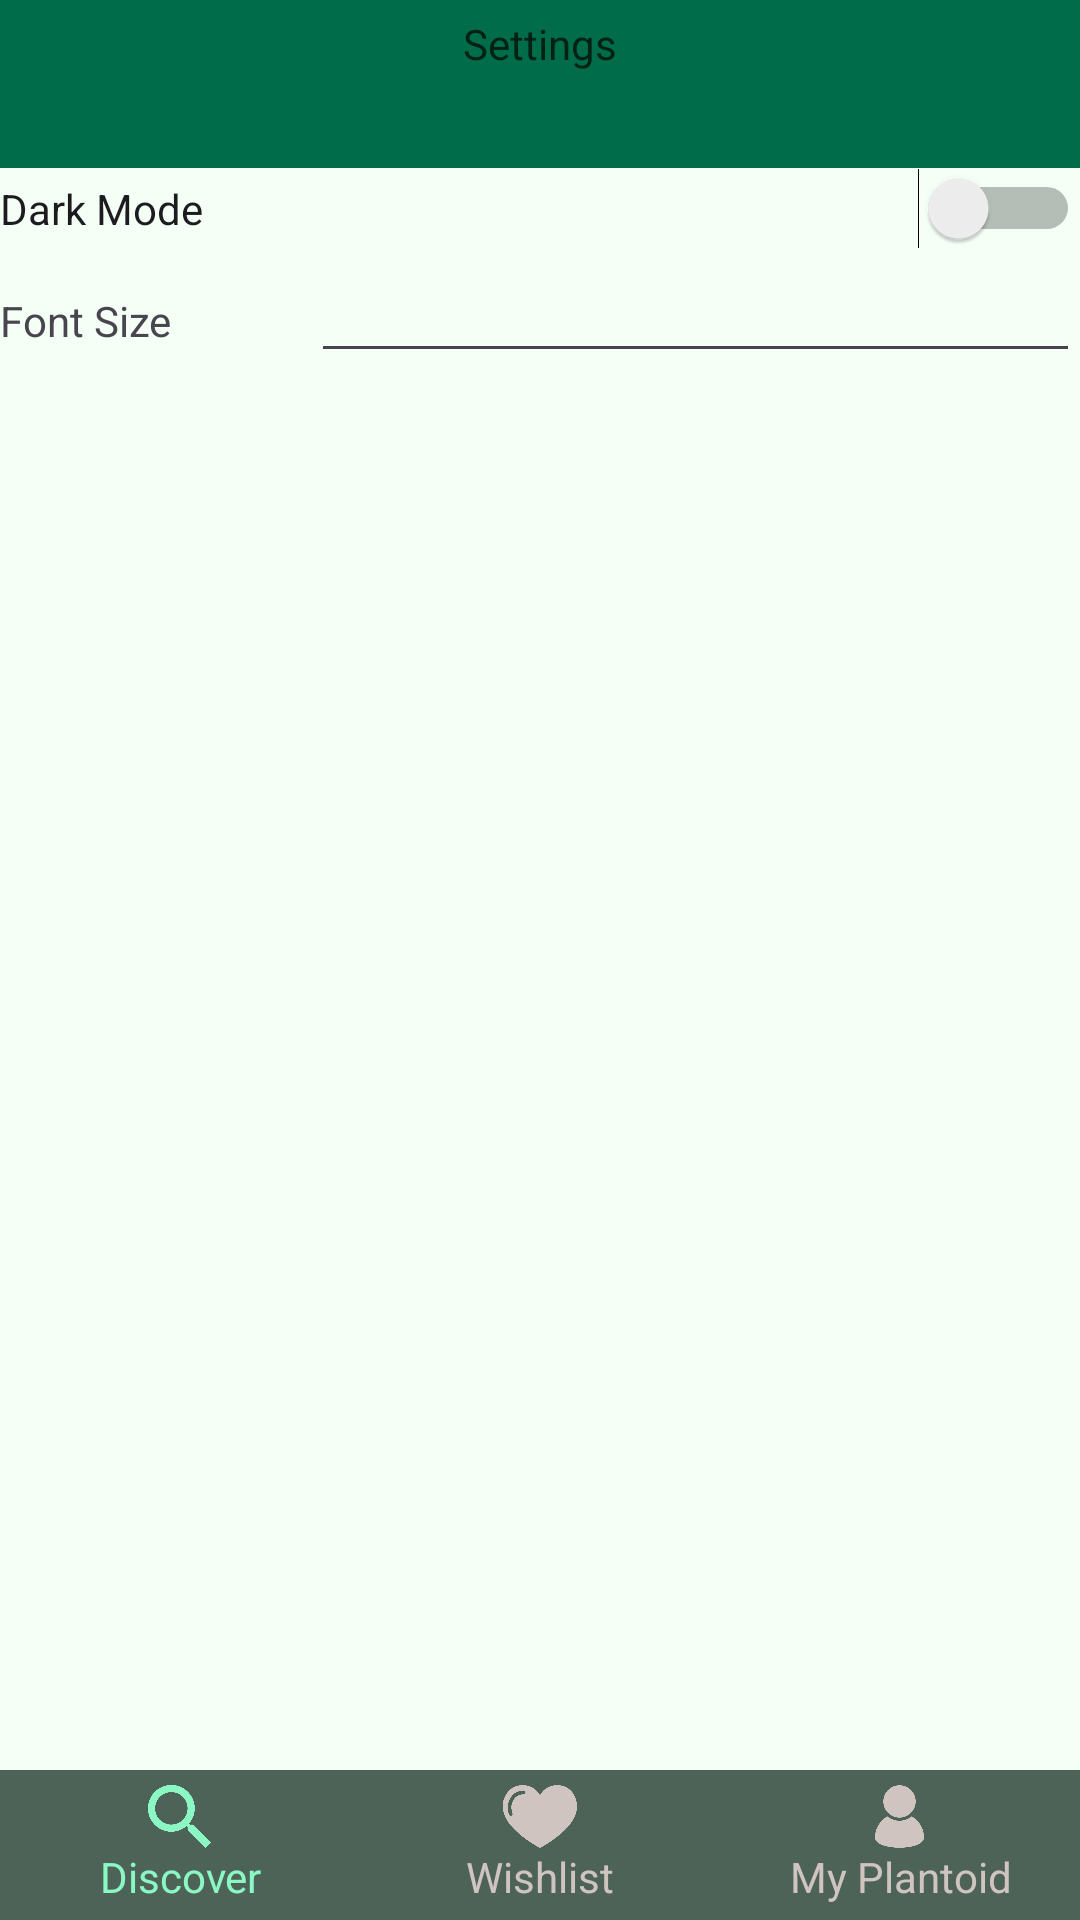

Where to tap for icons on this 1080 × 1920 app screen, as (x=x, y=y):
profile: (x=899, y=1816)
